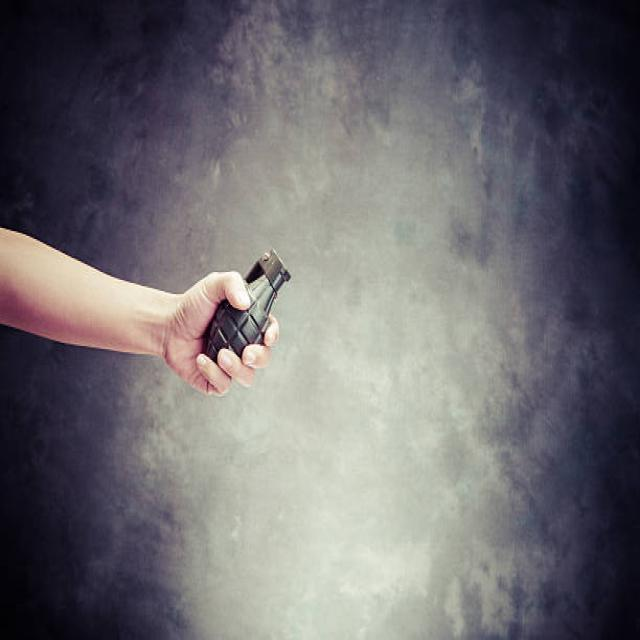grenade: (200, 244, 296, 363)
